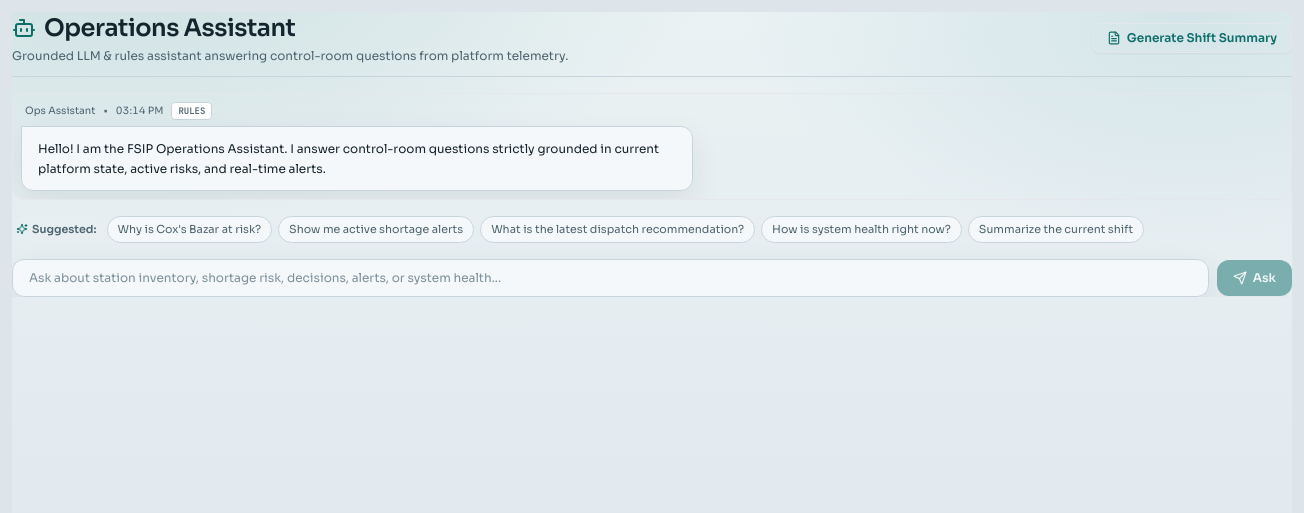
Test case: Phase 09 Ops Assistant Page › generates and displays shift summary with KPIs
The image size is (1304, 513).
Click the button "Generate Shift Summary" at (1192, 38), box left=1092, top=23, right=1292, bottom=53
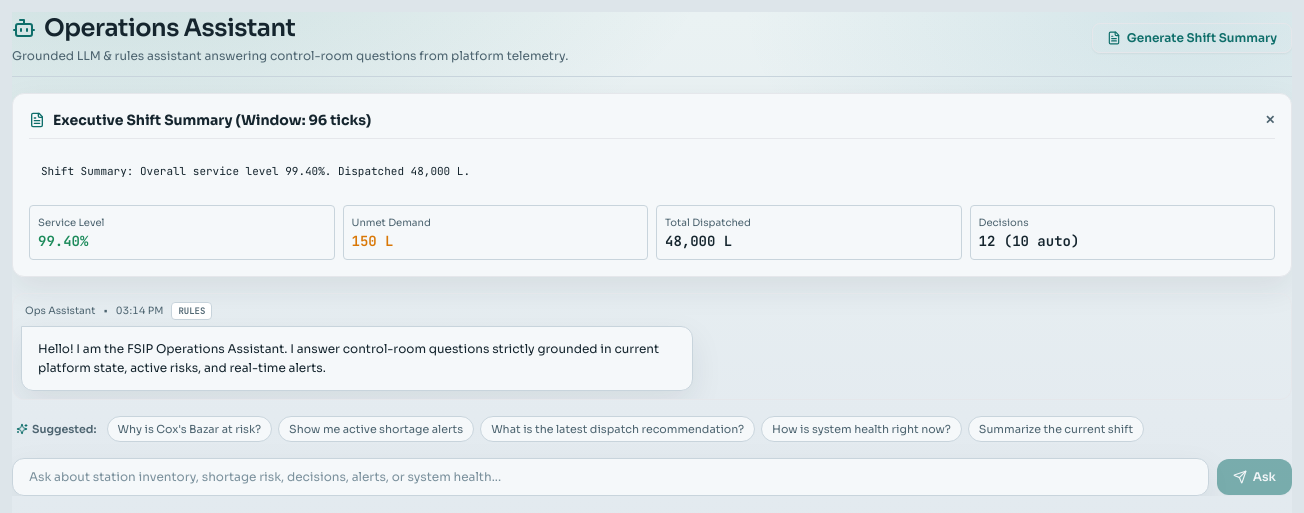
Result: the text "Executive Shift Summary (Window: 96 ticks)" is shown at left=29, top=110, right=371, bottom=130
